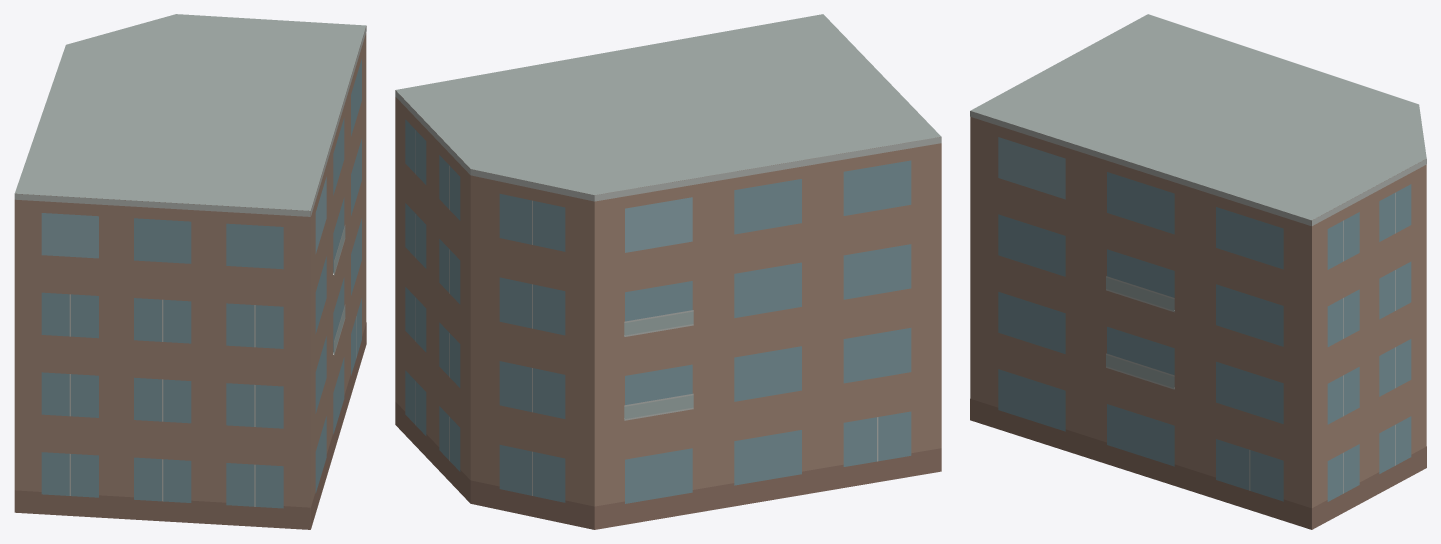
The model's file is survey-upis-32526312.glb.
3 views of the same model, side by side, from view 1: azimuth 30°, elevation 25°; view 2: azimuth 150°, elevation 25°; view 3: azimuth 270°, elevation 25° (orthographic). The views are drawn at different scales.
Visible parts, largest first — view 1: survey-upis-32526312.tmp; view 2: survey-upis-32526312.tmp; view 3: survey-upis-32526312.tmp.
Boxes of the visible parts, x1,y1,x2,y2 form: survey-upis-32526312.tmp: (14, 14, 366, 529); survey-upis-32526312.tmp: (395, 14, 941, 529); survey-upis-32526312.tmp: (970, 14, 1426, 529).
Bounding box in the file's own units: 18.32 × 12.8 × 17.13.
